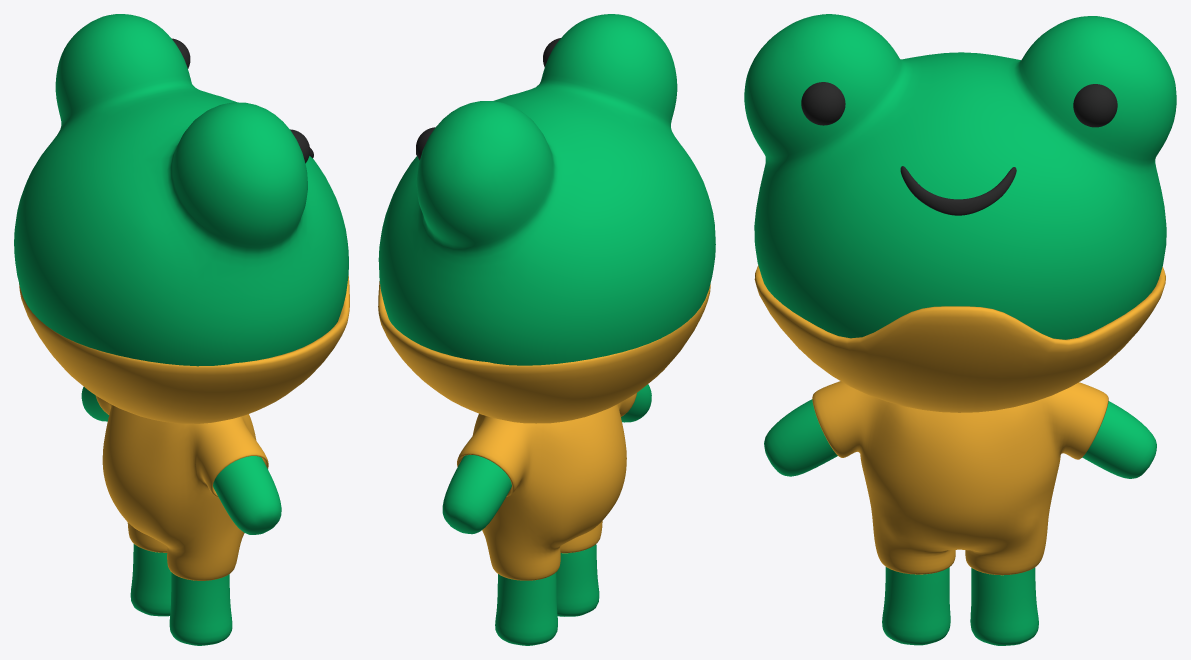
File: StaticFrog.glb
The picture shows the model from 3 angles, left to right: view 1: azimuth 30°, elevation 25°; view 2: azimuth 150°, elevation 25°; view 3: azimuth 270°, elevation 25°; orthographic projection. The views are drawn at different scales.
Visible parts, largest first — view 1: Roundcube.002, Roundcube.003, Roundcube.004, Roundcube.001, Roundcube.005; view 2: Roundcube.002, Roundcube.003, Roundcube.004, Roundcube.001; view 3: Roundcube.002, Roundcube.003, Roundcube.004, Roundcube.001, Roundcube.005, NurbsPath.
Boxes of the visible parts, <box> form: Roundcube.002: <box>14,14,348,366</box>; Roundcube.003: <box>95,395,268,580</box>; Roundcube.004: <box>19,276,349,423</box>; Roundcube.001: <box>81,387,281,645</box>; Roundcube.005: <box>171,38,309,163</box>; Roundcube.002: <box>378,14,715,365</box>; Roundcube.003: <box>457,393,636,580</box>; Roundcube.004: <box>378,281,710,423</box>; Roundcube.001: <box>442,384,651,645</box>; Roundcube.002: <box>744,14,1176,339</box>; Roundcube.003: <box>812,381,1108,575</box>; Roundcube.004: <box>754,265,1165,412</box>; Roundcube.001: <box>764,399,1156,645</box>; Roundcube.005: <box>801,82,1117,127</box>; NurbsPath: <box>900,166,1016,215</box>.
Size of the model in its own units: 2.81 by 5.22 by 3.33.
